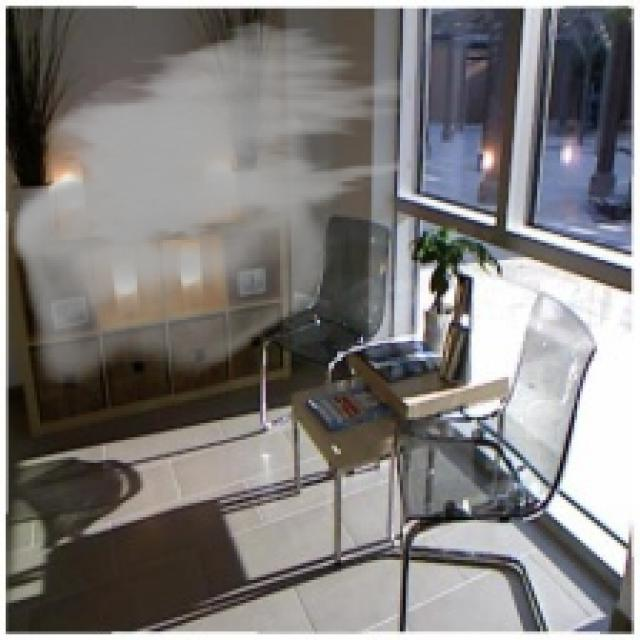smoke: (11, 17, 412, 386)
